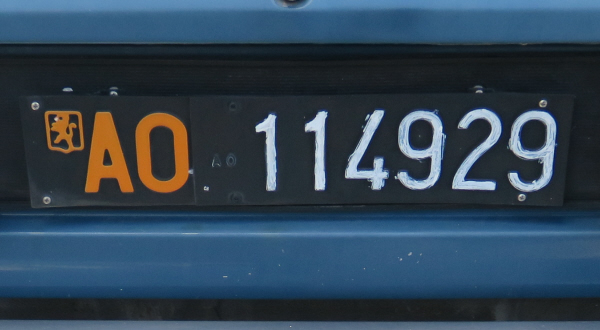license_plate: (23, 94, 573, 210)
